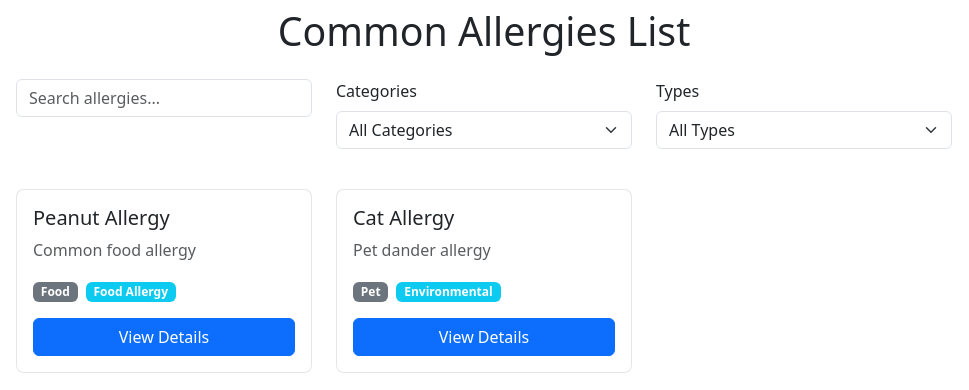
Test: AllergyList › clicking category badge updates category filter
Click the text with test id "category-badge-Food": [55, 292] box [33, 282, 78, 302]
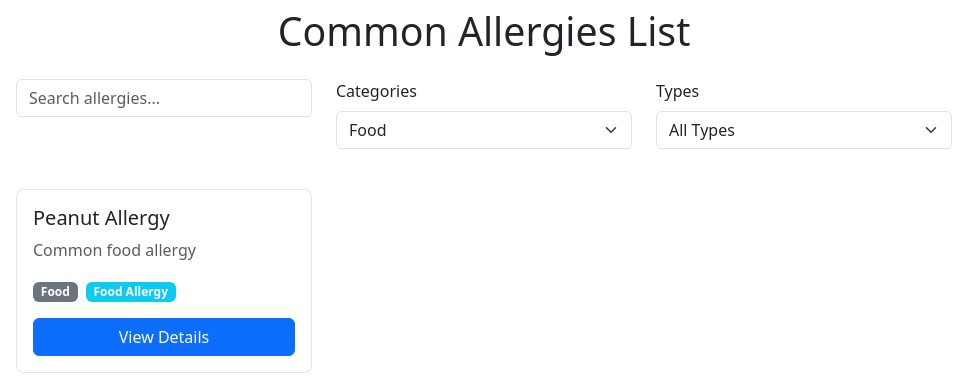
Expected: the text "Peanut Allergy" is shown, [33, 204, 170, 231]
Now the text "Cat Allergy" is gone
